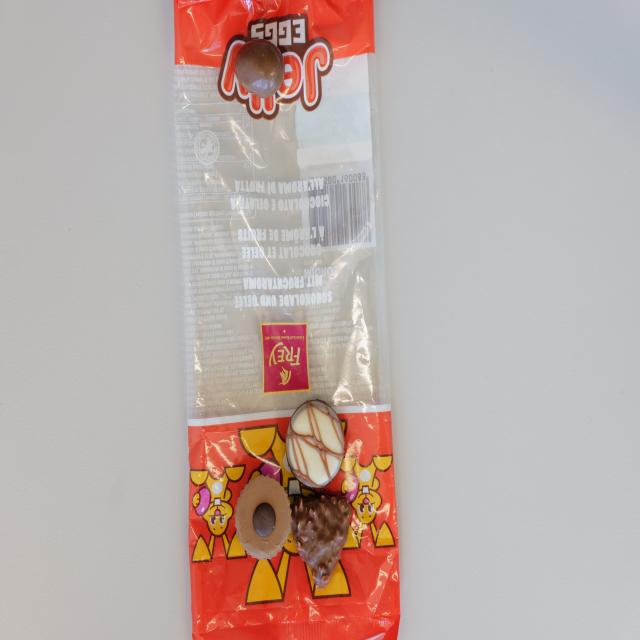Creme_brulee: (289, 398, 344, 488)
Jelly_Milk: (235, 36, 284, 98)
Noblesse: (238, 475, 292, 555)
Triangolo: (291, 493, 351, 582)
